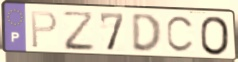7: (99, 11, 126, 53)
C: (165, 15, 197, 55)
D: (130, 13, 164, 55)
O: (199, 15, 232, 57)
P: (30, 10, 60, 50)
Z: (60, 11, 97, 53)
